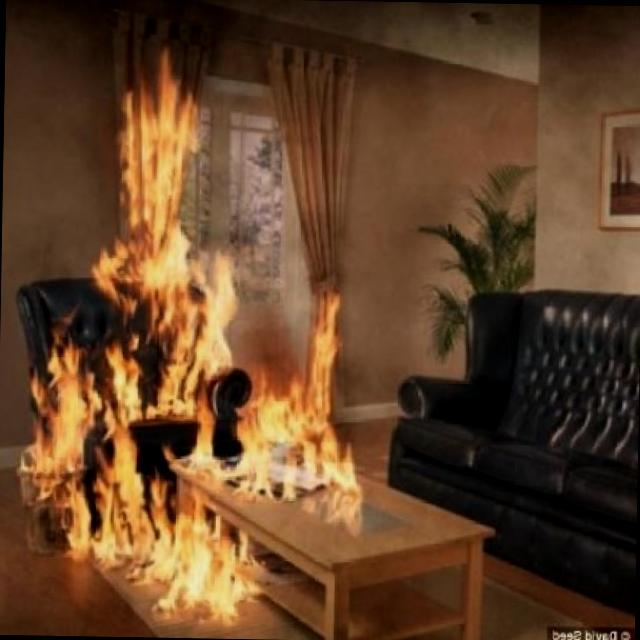fire: (0, 5, 384, 640)
